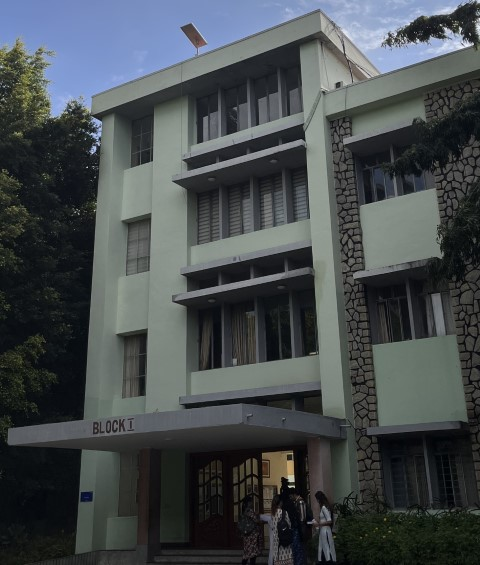Block 1: (80, 21, 480, 565)
